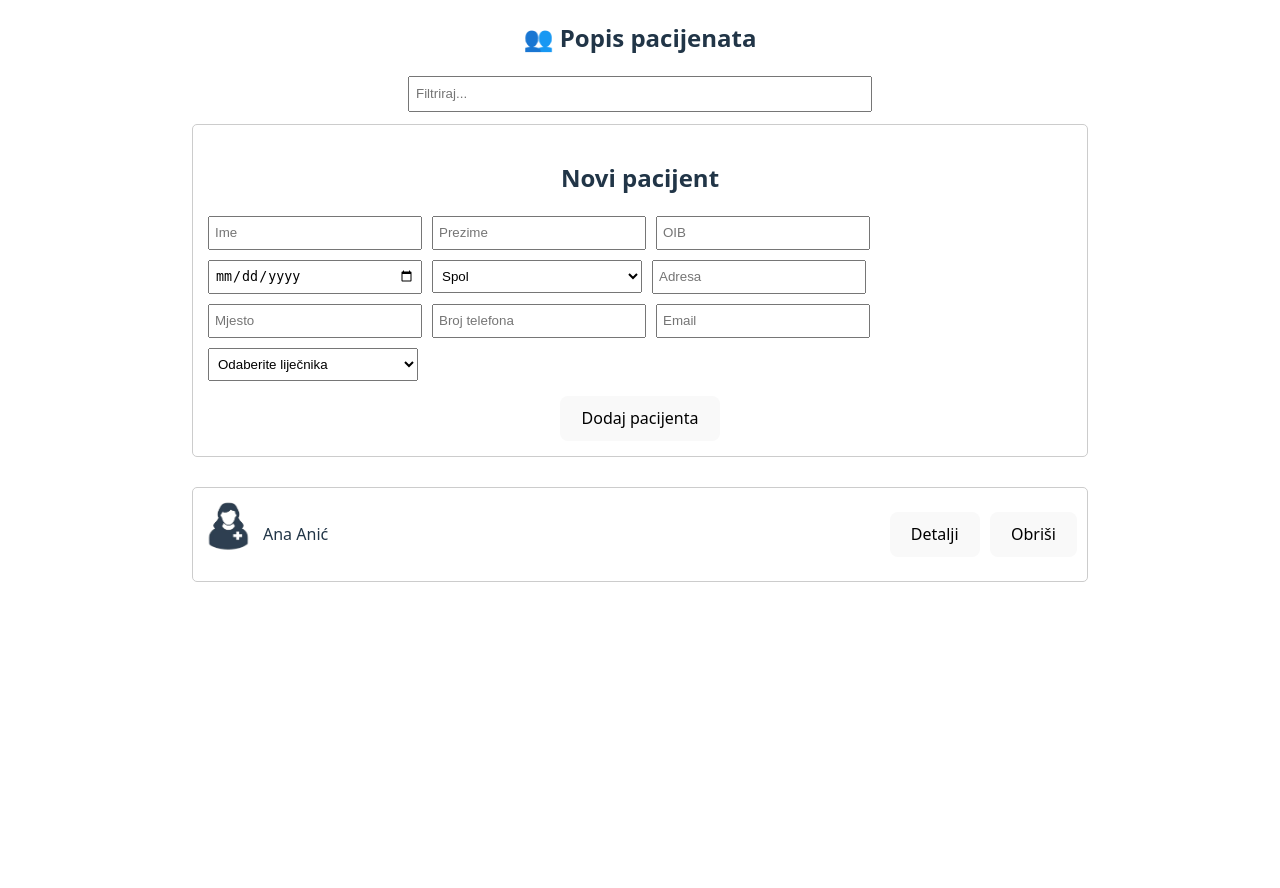
Test: PacijentiPage › omogućuje prikaz detalja pacijenta
Check: the text "Ana Anić" is shown, box [203,498,328,571]
Click the button "Detalji".
click(935, 534)  # box [890,512,980,557]
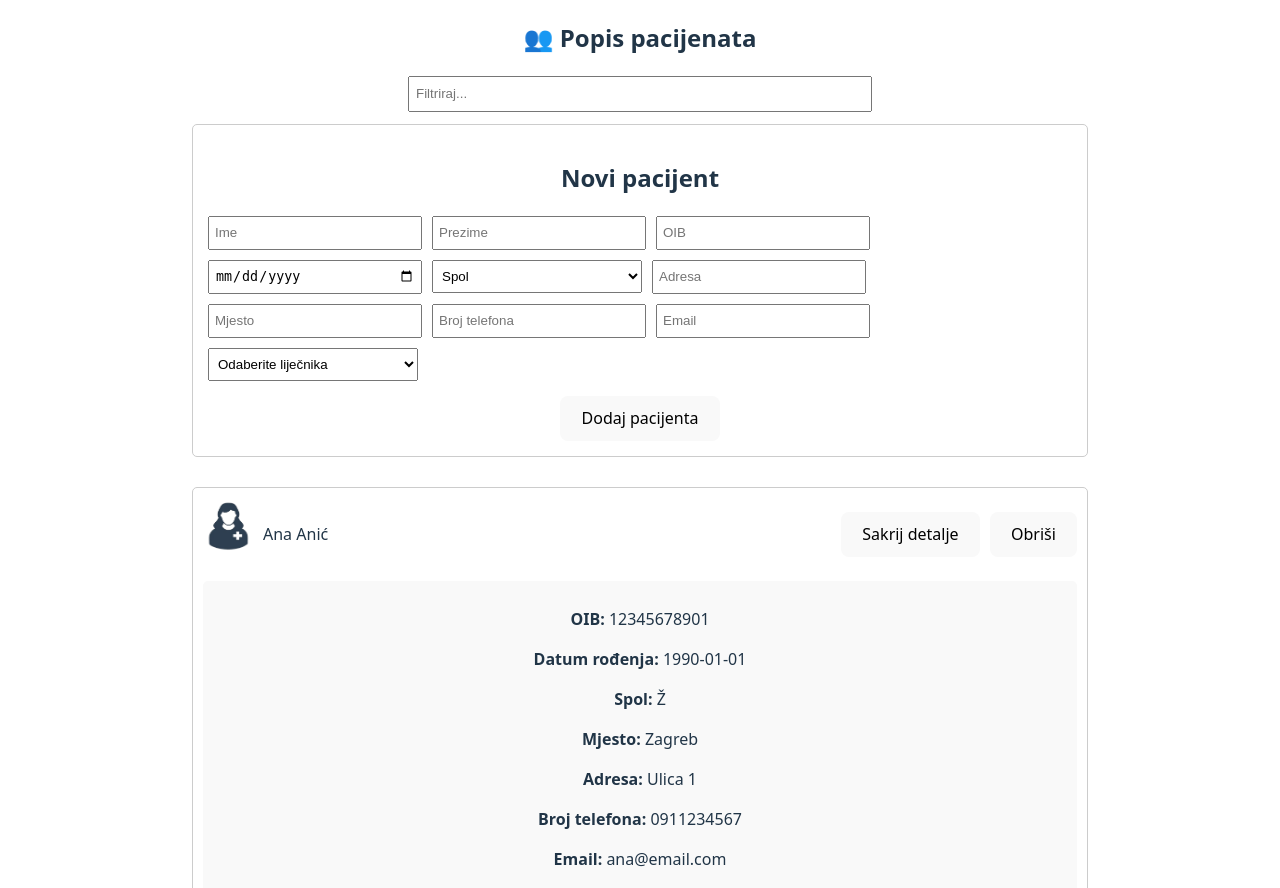
Check: the text "Datum rođenja:" is shown, box [534,648,659,670]
